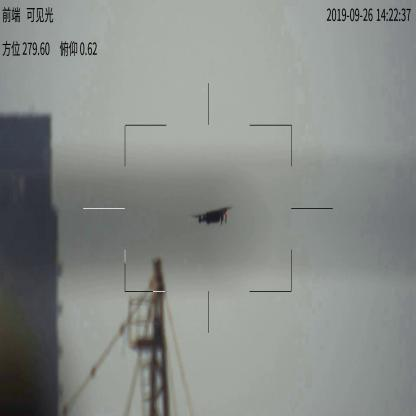uav: (191, 202, 235, 229)
